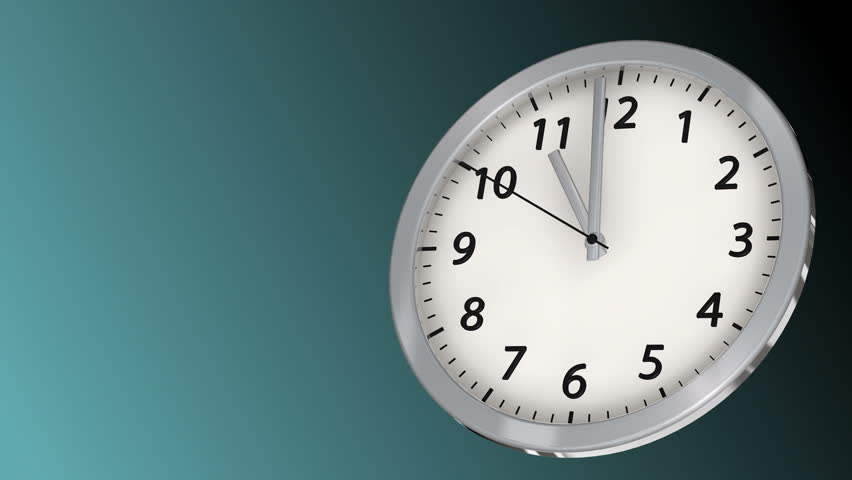clock: (415, 67, 784, 426)
